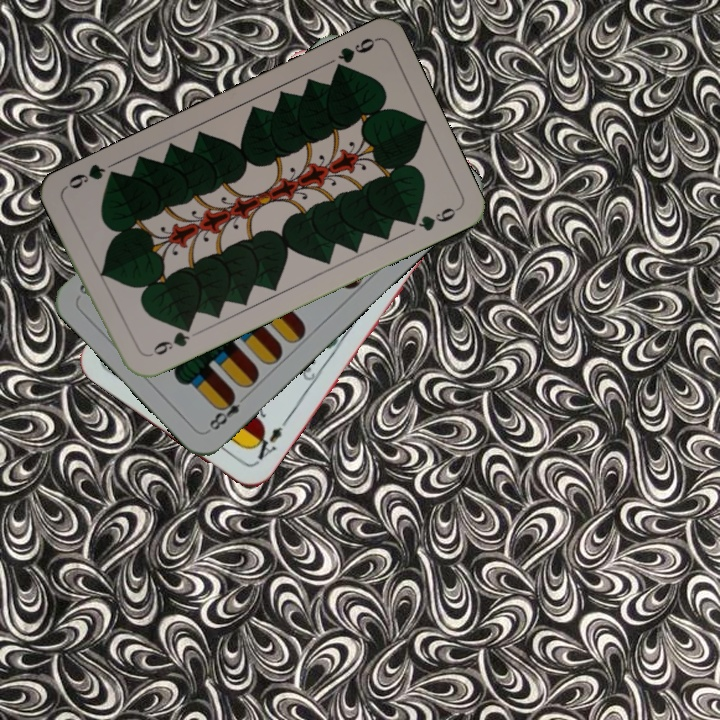E8: (203, 389, 251, 434)
EA: (247, 415, 291, 467)
G9: (329, 33, 379, 76), (142, 321, 194, 360)
